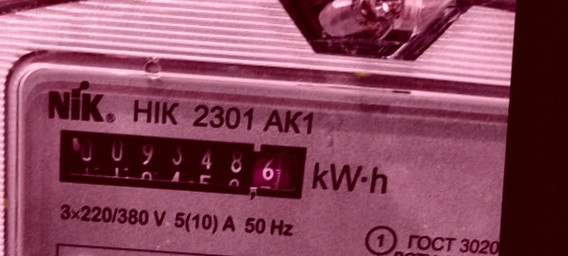0: (77, 137, 95, 164), (108, 136, 124, 163)
3: (169, 141, 185, 167)
4: (196, 141, 216, 172)
6: (258, 153, 277, 183)
8: (228, 146, 245, 175)
9: (139, 141, 155, 169)
screen: (38, 114, 321, 211)
